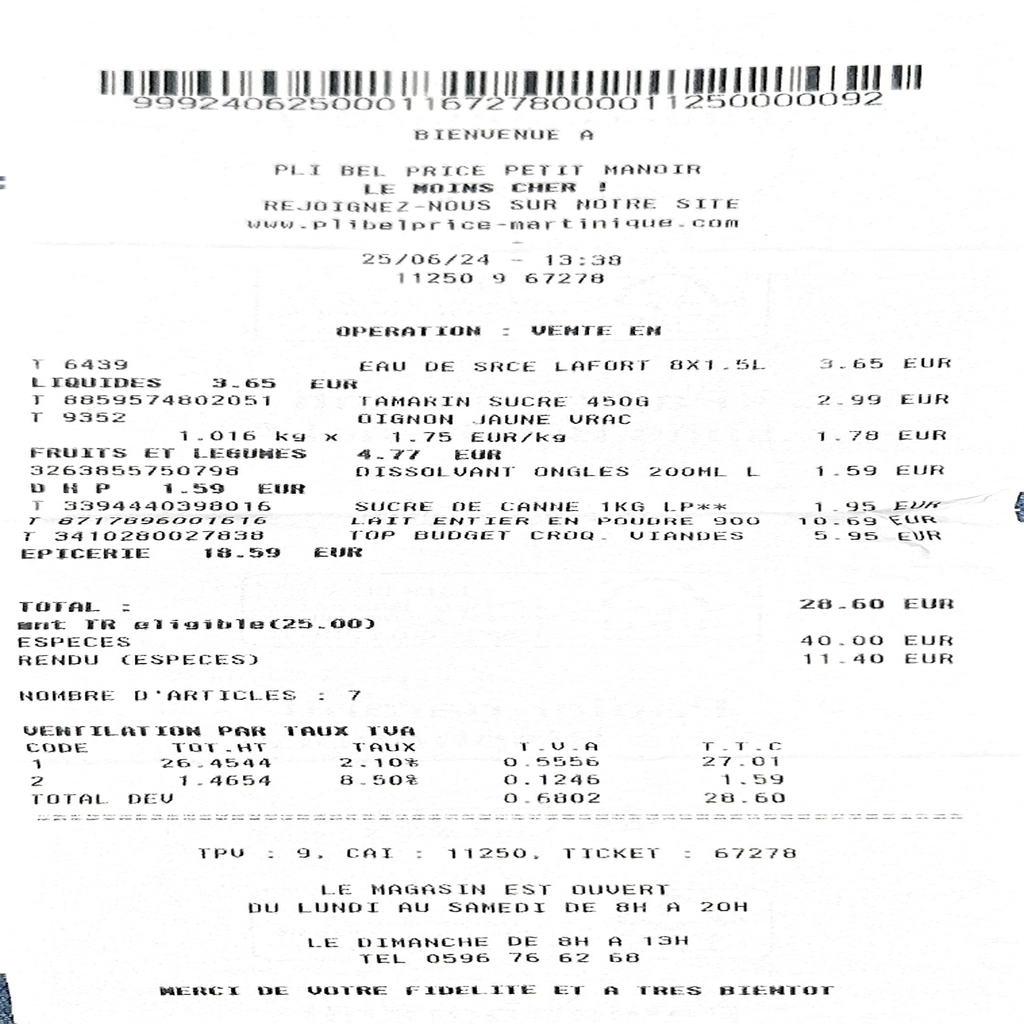recipt: (0, 2, 1020, 1020)
